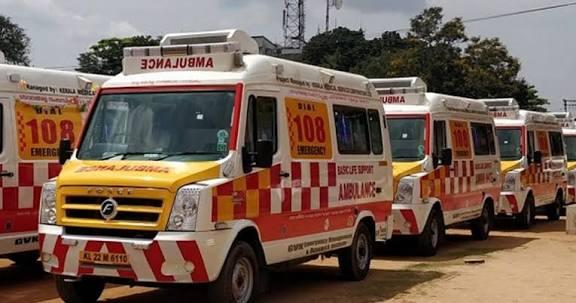ambulance: (42, 25, 393, 302)
